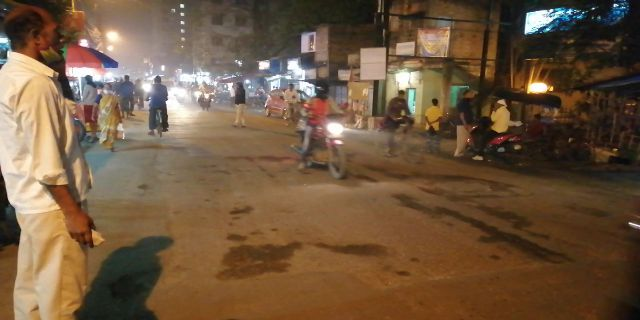Motorbike: (290, 78, 358, 176)
